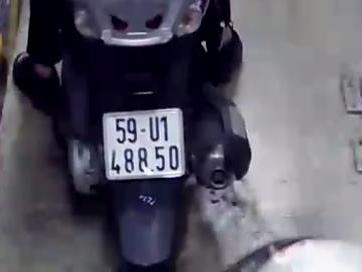num_plate: (102, 107, 184, 180)
